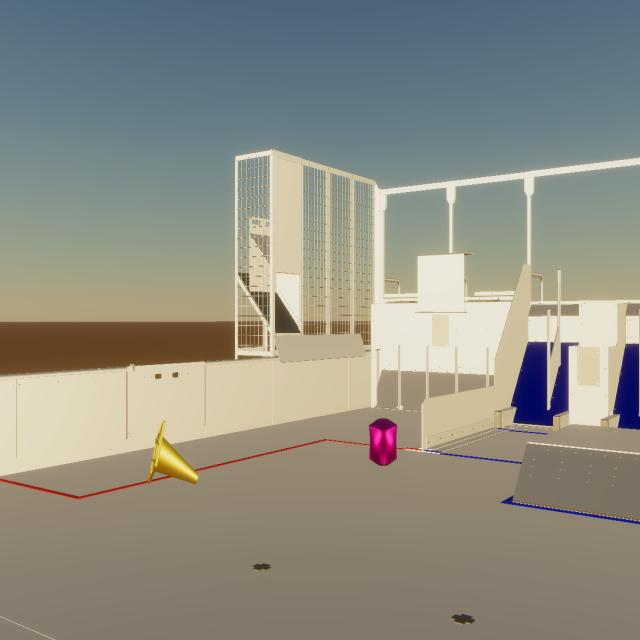frc_cone: (148, 421, 198, 484)
frc_cube: (369, 418, 397, 466)
